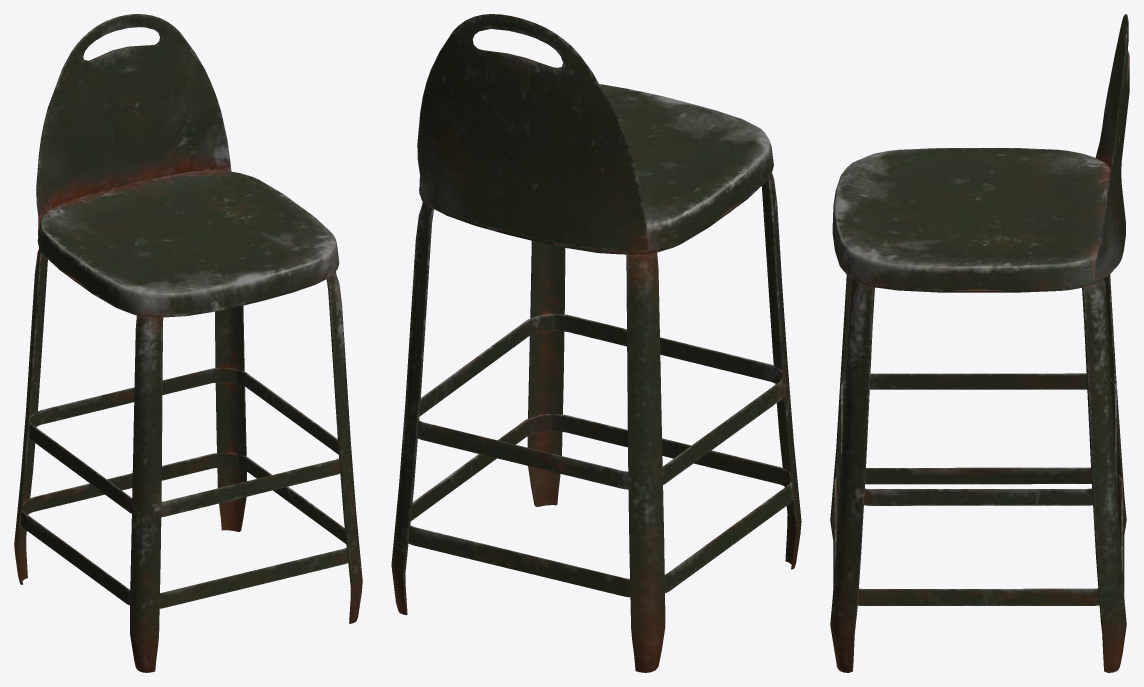
Rendered from metal_stool_03.glb.
3 renders of one model, left to right at view 1: azimuth 30°, elevation 25°; view 2: azimuth 150°, elevation 25°; view 3: azimuth 270°, elevation 25°, orthographic. The views are drawn at different scales.
Visible parts, largest first — view 1: metal_stool_03; view 2: metal_stool_03; view 3: metal_stool_03.
Boxes of the visible parts, x1,y1,x2,y2 form: metal_stool_03: [14, 14, 362, 672]; metal_stool_03: [391, 14, 801, 672]; metal_stool_03: [830, 14, 1129, 672].
Size of the model in its own units: 0.4606 by 1.02 by 0.47.
Materials: 1 (1 with a texture image).
